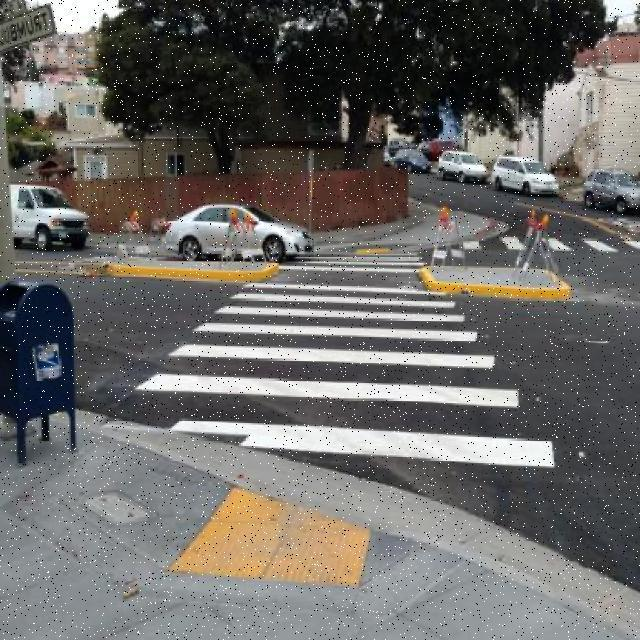Pedestrian crosswalk: (112, 251, 541, 468), (454, 232, 637, 254)
